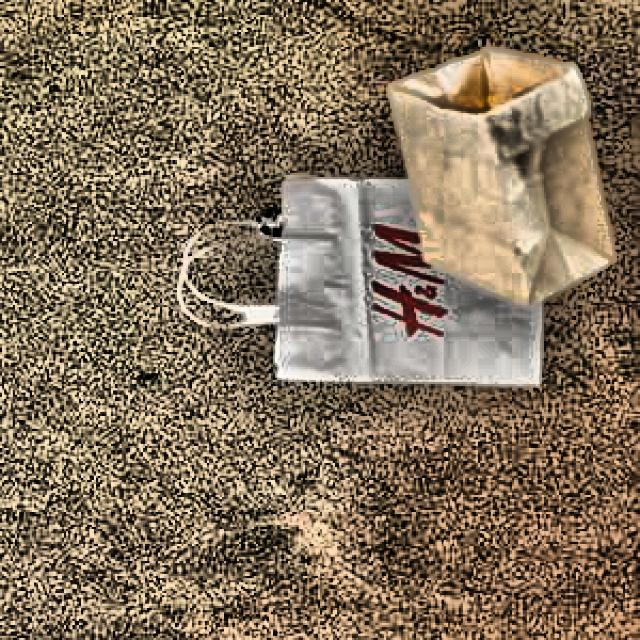Paper-bag: (183, 153, 570, 414), (377, 43, 612, 306)
